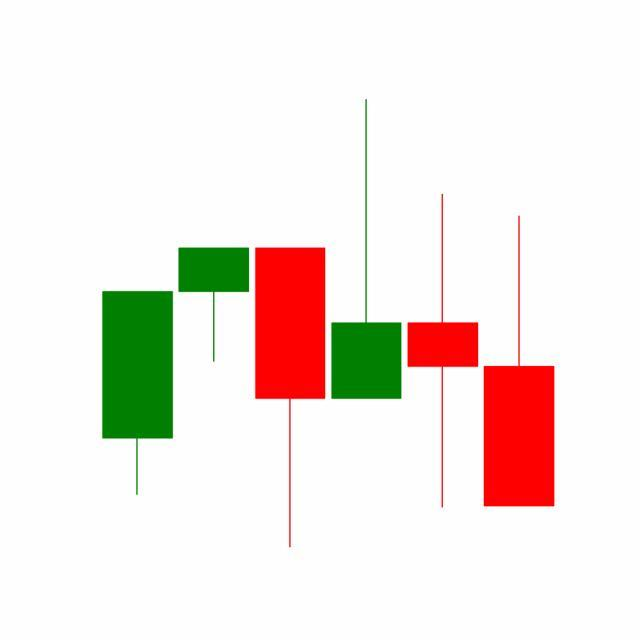Spinning Top: (404, 191, 482, 512)
